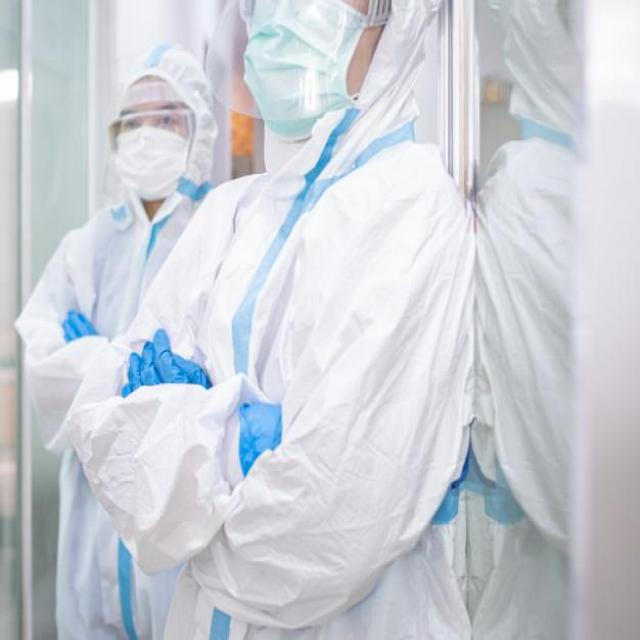Coverall: (83, 1, 470, 636), (26, 43, 209, 634)
Gloves: (119, 327, 207, 394), (59, 308, 97, 338)
Goggles: (113, 103, 197, 144)
Mask: (244, 0, 358, 135), (115, 127, 186, 194)
